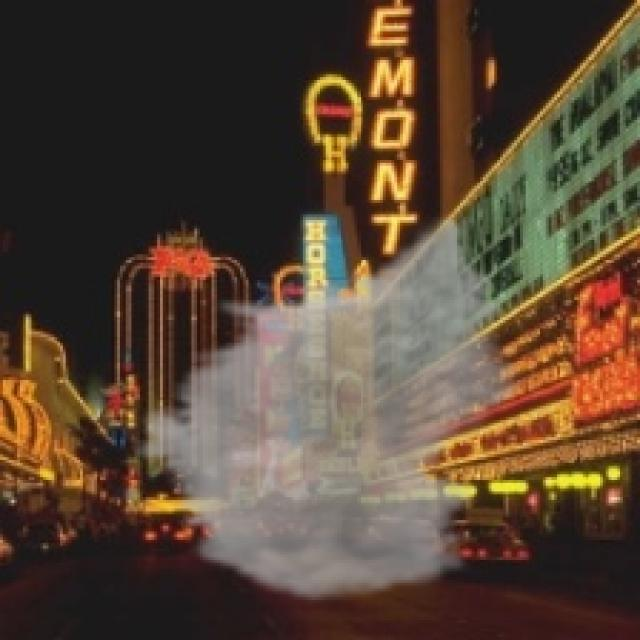smoke: (126, 211, 531, 606)
